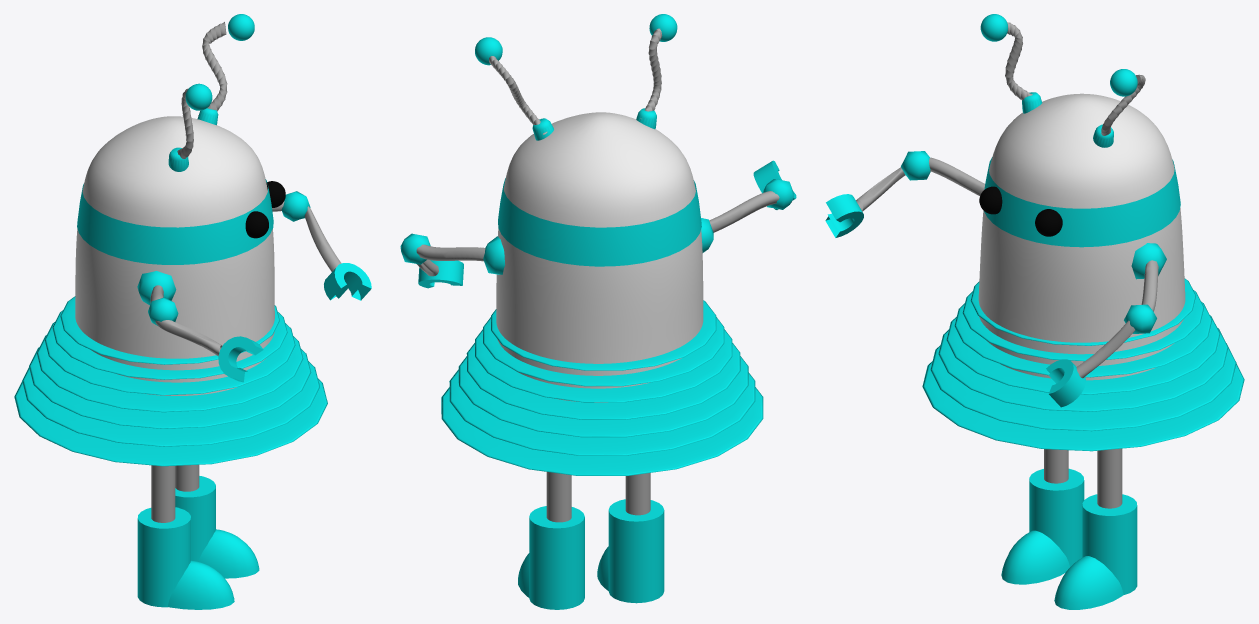
The model's file is robot.fbx.
3 renders of one model, left to right at view 1: azimuth 30°, elevation 25°; view 2: azimuth 150°, elevation 25°; view 3: azimuth 270°, elevation 25°, orthographic. The views are drawn at different scales.
Visible parts, largest first — view 1: body, skirt, mask, bootR, bootL, legR, handL, handR, armR, antennaL, armL, shoulderR (+7 smaller); view 2: body, skirt, mask, bootR, bootL, legL, armL, legR, armR, handL, antennaR, antennaL (+5 smaller); view 3: body, skirt, mask, bootL, bootR, armL, armR, legL, handL, handR, legR, antennaR (+7 smaller).
Part boxes in pixels (x1,y1,x2,y2): body: (75,116,274,395); skirt: (14,296,327,466); mask: (77,179,273,264); bootR: (137,507,234,609); bootL: (175,476,259,578); legR: (151,465,175,522); handL: (324,263,371,300); handR: (218,336,263,382); armR: (150,285,222,355); antennaL: (198,22,227,115); armL: (272,201,341,271); shoulderR: (137,271,176,305); body: (496,112,703,402); skirt: (441,300,763,475); mask: (498,178,701,266); bootR: (597,499,664,603); bootL: (518,506,584,609); legL: (546,472,571,522); armL: (416,244,485,276); legR: (625,473,650,515); armR: (709,191,791,232); handL: (418,260,463,288); antennaR: (640,28,662,118); antennaL: (489,56,547,134); body: (978,93,1185,380); skirt: (922,278,1244,451); mask: (984,157,1180,247); bootL: (1054,494,1137,609); bootR: (1001,468,1084,584); armL: (1076,260,1158,378); armR: (856,157,984,211); legL: (1097,448,1122,508); handL: (1046,359,1085,407); handR: (825,194,863,237); legR: (1044,449,1068,483); antennaR: (1005,22,1041,100).
Bounding box in the file's own units: 3.55 × 5.61 × 3.9.
